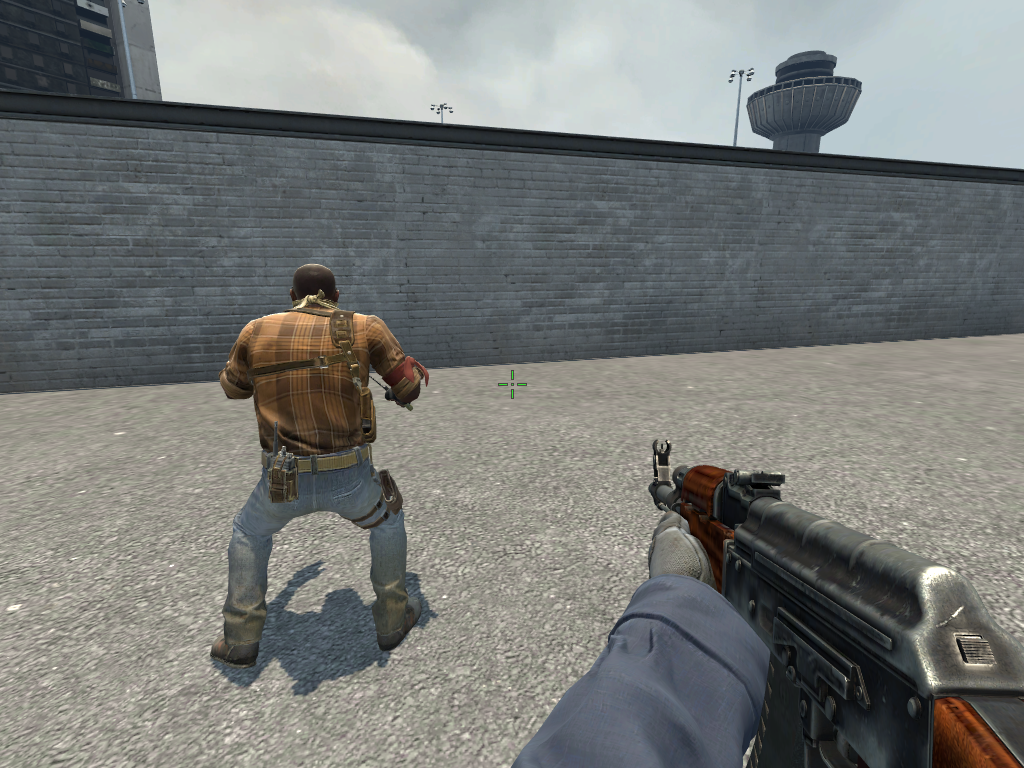tr head: (283, 259, 345, 323)
